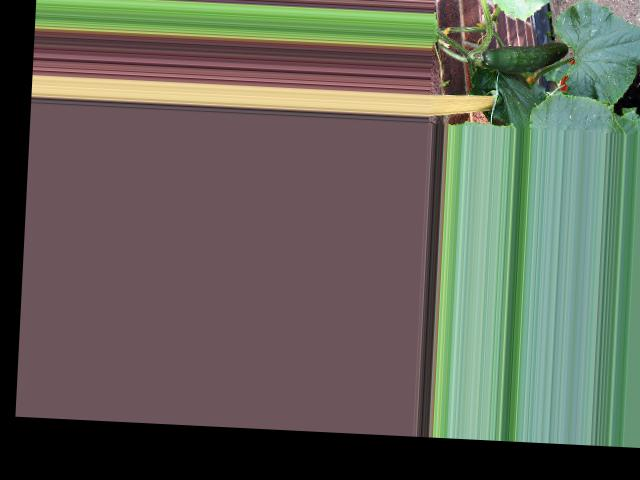cucumber: (481, 37, 568, 75)
